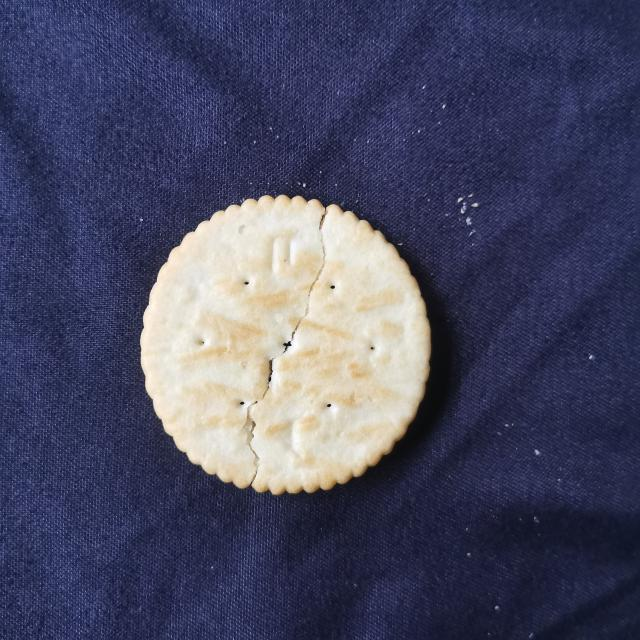Fracture: (227, 198, 348, 494)
